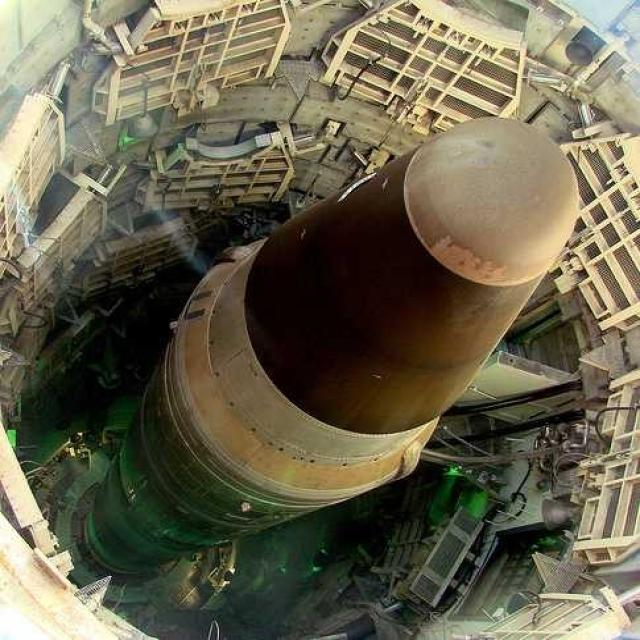missile: (87, 111, 580, 590)
